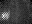person: (1, 10, 10, 19)
